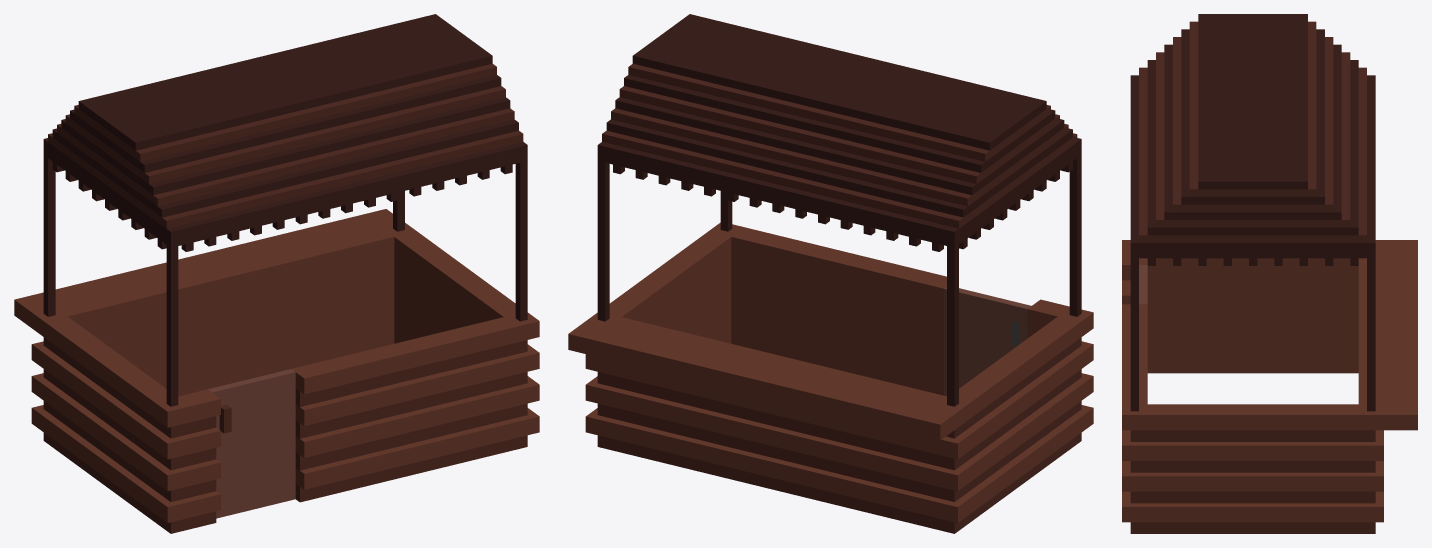
Rendered from Dark Wood Stall.obj.
The picture shows the model from 3 angles, left to right: view 1: azimuth 30°, elevation 25°; view 2: azimuth 150°, elevation 25°; view 3: azimuth 270°, elevation 25°; orthographic projection. The views are drawn at different scales.
Size of the model in its own units: 49 by 46 by 35.
1 material, 1 textured.
